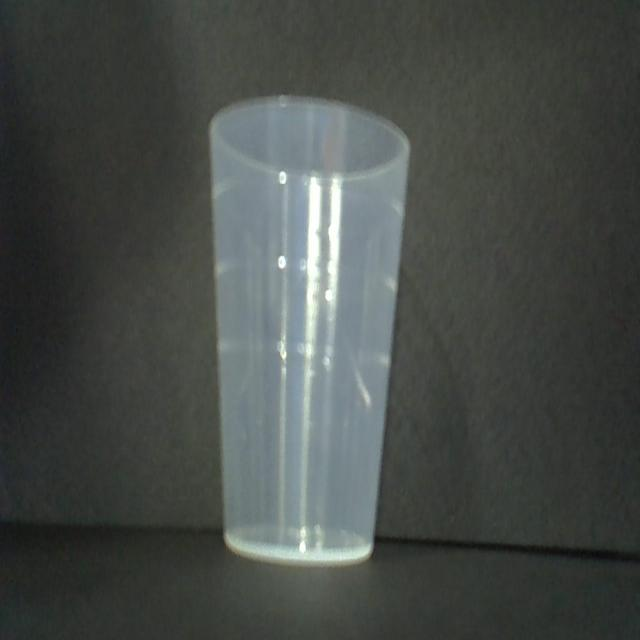cup: (204, 93, 413, 568)
